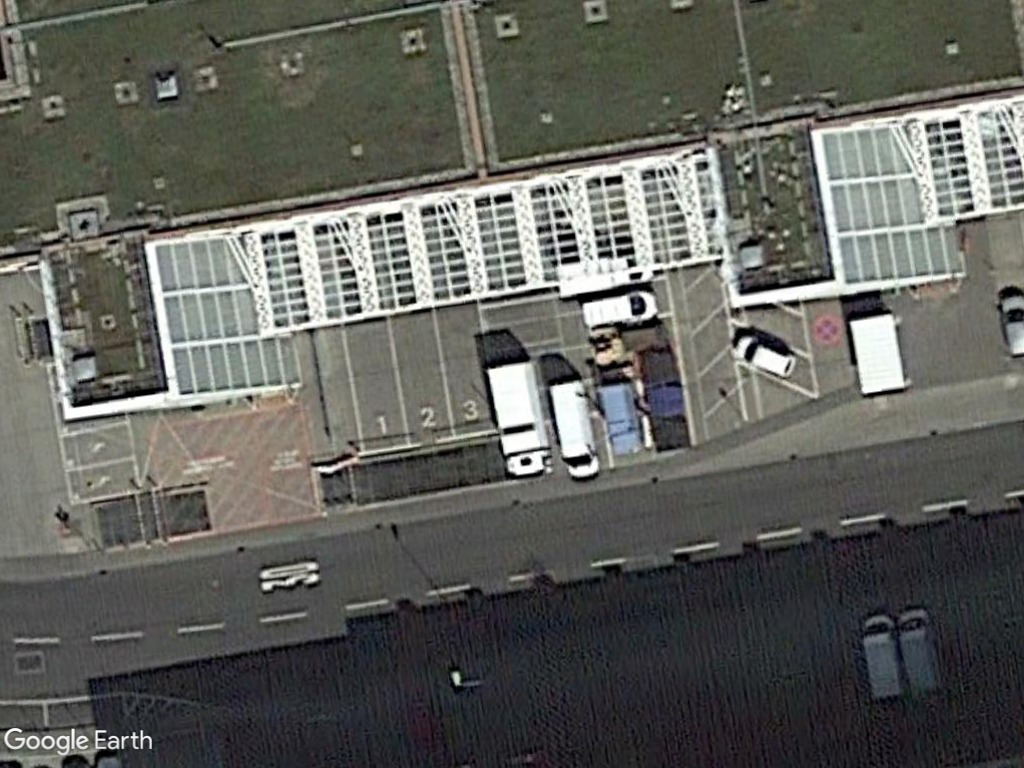car: (720, 324, 809, 394)
truck: (478, 356, 559, 504)
van: (546, 371, 603, 495), (577, 273, 664, 337)
